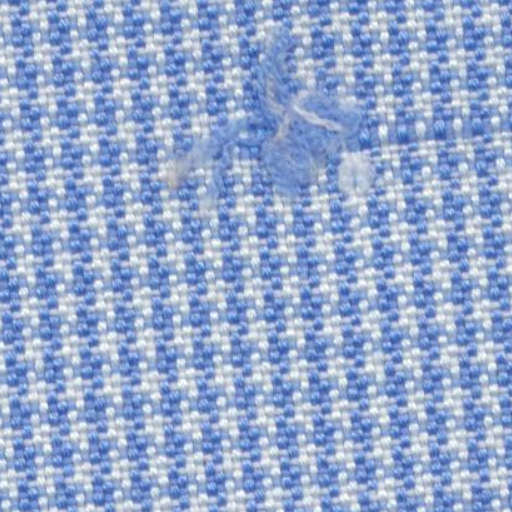MianQiu: (248, 82, 373, 190)
